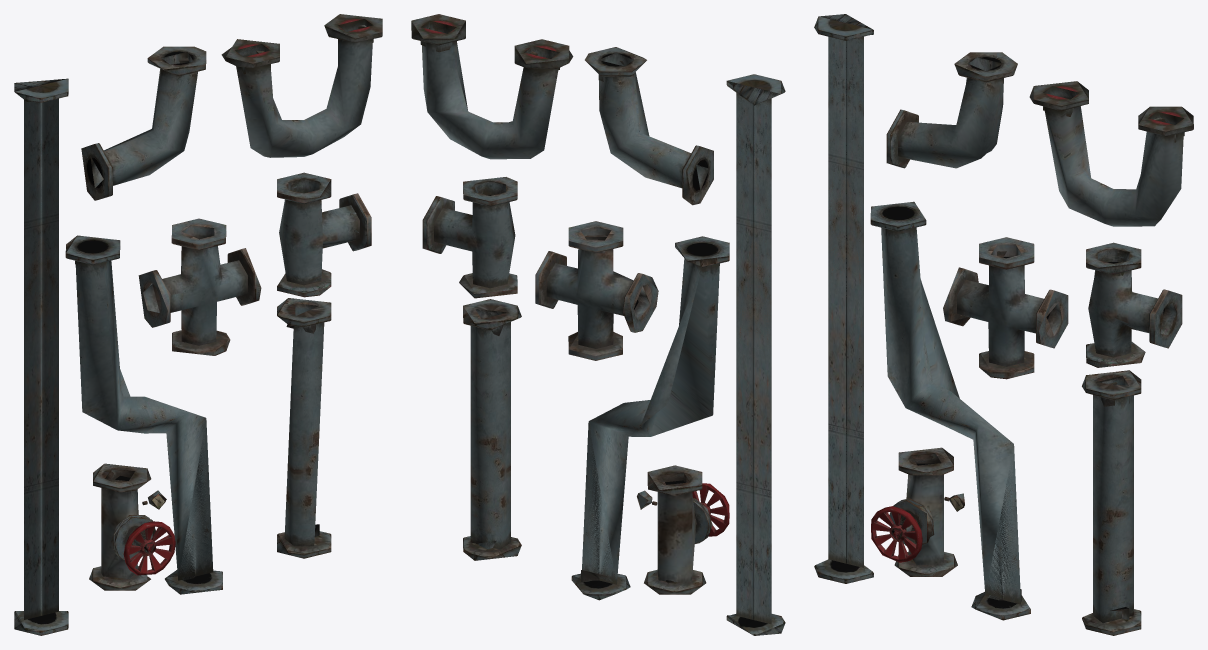
The model's file is modular_industrial_pipes_01.glb.
The picture shows the model from 3 angles, left to right: view 1: azimuth 30°, elevation 25°; view 2: azimuth 150°, elevation 25°; view 3: azimuth 330°, elevation 25°; orthographic projection.
Parts seen in each view (by area): view 1: modular_industrial_pipes_01_pipe02, modular_industrial_pipes_01_pipe03, modular_industrial_pipes_01_pipe05, modular_industrial_pipes_01_pipe07, modular_industrial_pipes_01_pipe01, modular_industrial_pipes_01_pipe04, modular_industrial_pipes_01_pipe06, modular_industrial_pipes_01_pipe08; view 2: modular_industrial_pipes_01_pipe02, modular_industrial_pipes_01_pipe03, modular_industrial_pipes_01_pipe05, modular_industrial_pipes_01_pipe01, modular_industrial_pipes_01_pipe07, modular_industrial_pipes_01_pipe04, modular_industrial_pipes_01_pipe06, modular_industrial_pipes_01_pipe08; view 3: modular_industrial_pipes_01_pipe02, modular_industrial_pipes_01_pipe03, modular_industrial_pipes_01_pipe05, modular_industrial_pipes_01_pipe01, modular_industrial_pipes_01_pipe07, modular_industrial_pipes_01_pipe04, modular_industrial_pipes_01_pipe06, modular_industrial_pipes_01_pipe08.
Part boxes in pixels (box(x1,y1,x2,y2)): modular_industrial_pipes_01_pipe02: box(14, 78, 68, 635); modular_industrial_pipes_01_pipe03: box(65, 235, 222, 594); modular_industrial_pipes_01_pipe05: box(221, 14, 382, 157); modular_industrial_pipes_01_pipe07: box(138, 218, 261, 355); modular_industrial_pipes_01_pipe01: box(277, 298, 331, 558); modular_industrial_pipes_01_pipe04: box(81, 46, 206, 200); modular_industrial_pipes_01_pipe06: box(277, 172, 371, 297); modular_industrial_pipes_01_pipe08: box(89, 463, 175, 590); modular_industrial_pipes_01_pipe02: box(726, 74, 785, 635); modular_industrial_pipes_01_pipe03: box(571, 236, 729, 600); modular_industrial_pipes_01_pipe05: box(411, 14, 573, 159); modular_industrial_pipes_01_pipe01: box(463, 299, 521, 560); modular_industrial_pipes_01_pipe07: box(535, 221, 658, 360); modular_industrial_pipes_01_pipe04: box(585, 47, 713, 205); modular_industrial_pipes_01_pipe06: box(422, 177, 517, 298); modular_industrial_pipes_01_pipe08: box(637, 465, 729, 594); modular_industrial_pipes_01_pipe02: box(814, 14, 873, 583); modular_industrial_pipes_01_pipe03: box(870, 201, 1030, 620); modular_industrial_pipes_01_pipe05: box(1029, 81, 1193, 226); modular_industrial_pipes_01_pipe01: box(1082, 370, 1141, 635); modular_industrial_pipes_01_pipe07: box(943, 237, 1068, 379); modular_industrial_pipes_01_pipe04: box(886, 52, 1017, 168); modular_industrial_pipes_01_pipe06: box(1086, 242, 1182, 367); modular_industrial_pipes_01_pipe08: box(871, 447, 964, 576).
Size of the model in its own units: 1.4 by 1.95 by 0.3073.
Materials: 2 (2 with a texture image).
